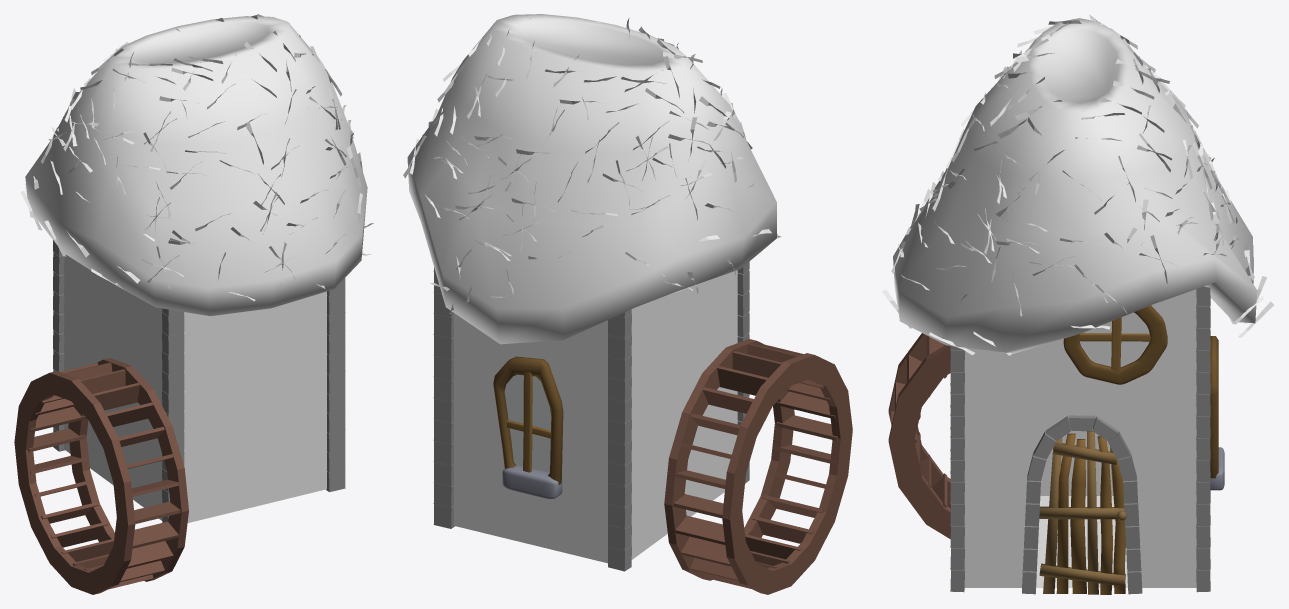
File: WaterMill.fbx
The picture shows the model from 3 angles, left to right: view 1: azimuth 30°, elevation 25°; view 2: azimuth 150°, elevation 25°; view 3: azimuth 270°, elevation 25°; orthographic projection. The views are drawn at different scales.
Parts seen in each view (by area): view 1: Cone, Bat, Circle, Cube.002; view 2: Cone, Bat, Circle, Cube.002, Porte.004; view 3: Cone, Bat, Sphere, Cube.002, Circle, Cube, Porte.002, Porte.004.
Boxes of the visible parts, box(x1,y1,x2,y2) form: Cone: box(25, 16, 367, 316); Bat: box(64, 254, 326, 522); Circle: box(14, 358, 188, 594); Cube.002: box(53, 240, 345, 522); Cone: box(407, 14, 777, 344); Bat: box(453, 270, 737, 563); Circle: box(664, 339, 852, 594); Cube.002: box(433, 261, 749, 571); Porte.004: box(493, 356, 563, 498); Cone: box(893, 18, 1257, 354); Bat: box(964, 289, 1196, 587); Sphere: box(1039, 430, 1126, 594); Cube.002: box(950, 286, 1210, 592); Circle: box(888, 333, 950, 538); Cube: box(1022, 415, 1142, 594); Porte.002: box(1063, 305, 1167, 384); Porte.004: box(1210, 336, 1224, 490).
Bounding box in the file's own units: 245 × 370 × 237.
